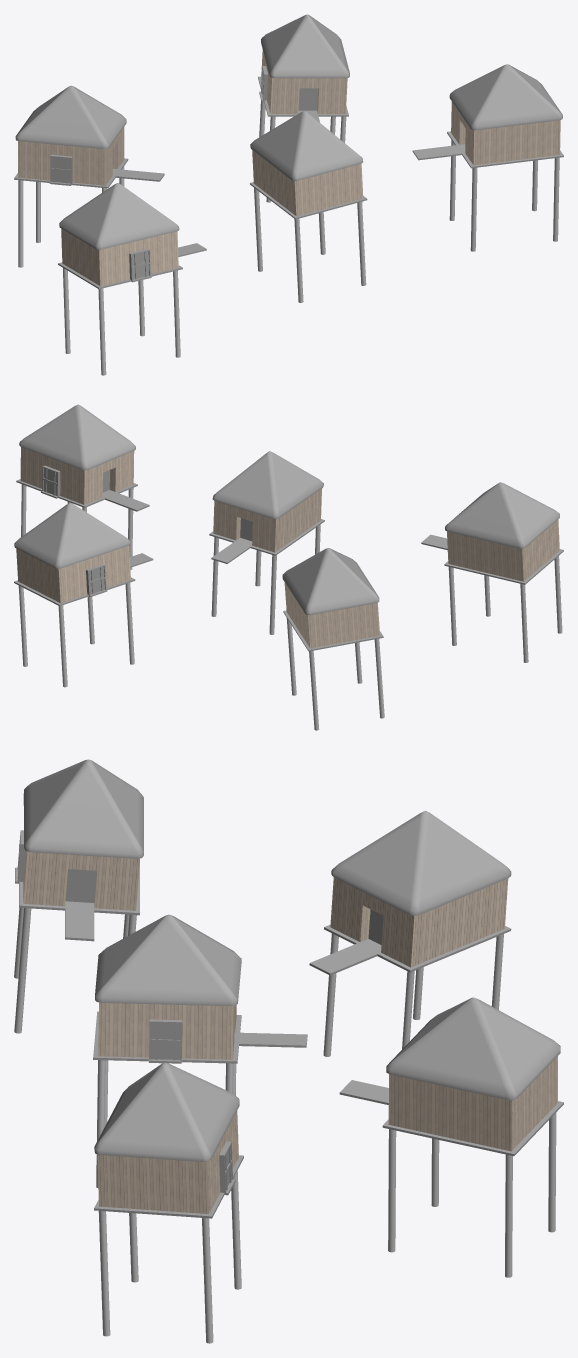
Rendered from Houses.fbx.
The picture shows the model from 3 angles, top to bottom: view 1: azimuth 30°, elevation 25°; view 2: azimuth 150°, elevation 25°; view 3: azimuth 270°, elevation 25°; orthographic projection. The views are drawn at different scales.
Parts seen in each view (by area): view 1: Roof (×5), House (×5), Rondins (×5), Window (×2); view 2: Roof (×5), House (×5), Rondins (×5), Window (×2); view 3: Roof (×5), House (×5), Rondins (×5), Window.
Boxes of the visible parts, x1,y1,x2,y2 form: Roof (×5): [15, 14, 562, 249]; House (×5): [14, 50, 563, 289]; Rondins (×5): [18, 101, 559, 375]; Window (×2): [50, 154, 150, 280]; Roof (×5): [14, 404, 559, 615]; House (×5): [14, 447, 563, 651]; Rondins (×5): [18, 484, 562, 730]; Window (×2): [42, 465, 106, 595]; Roof (×5): [23, 759, 560, 1161]; House (×5): [15, 844, 563, 1218]; Rondins (×5): [14, 907, 556, 1343]; Window: [149, 1019, 182, 1060].
Bounding box in the file's own units: 61 × 20.13 × 38.61.
